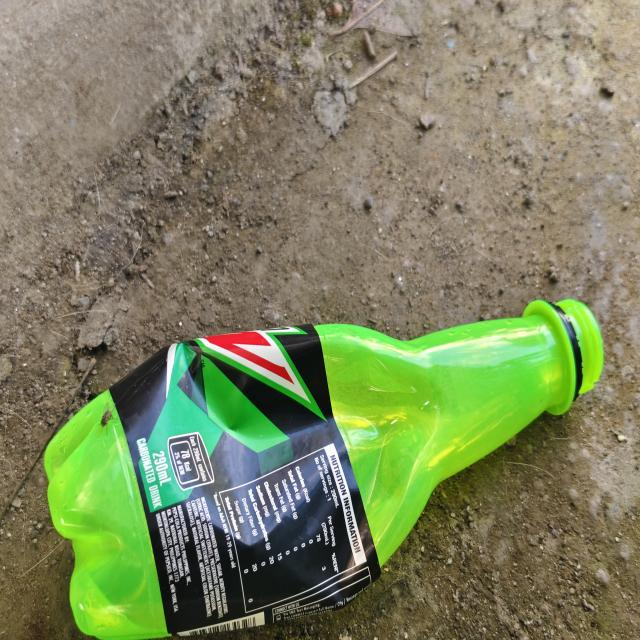Bottle: (45, 299, 603, 640)
